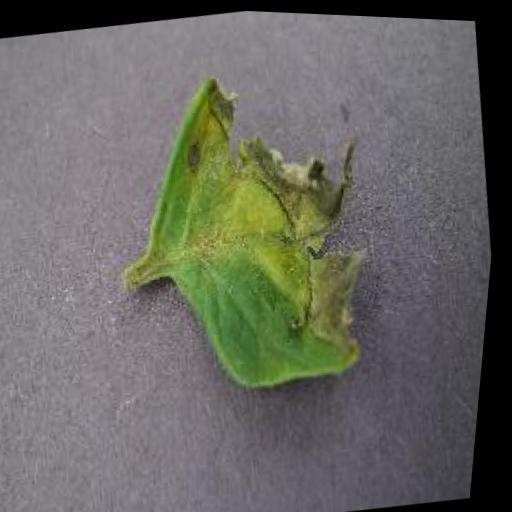Late Blight: (106, 49, 410, 413)
